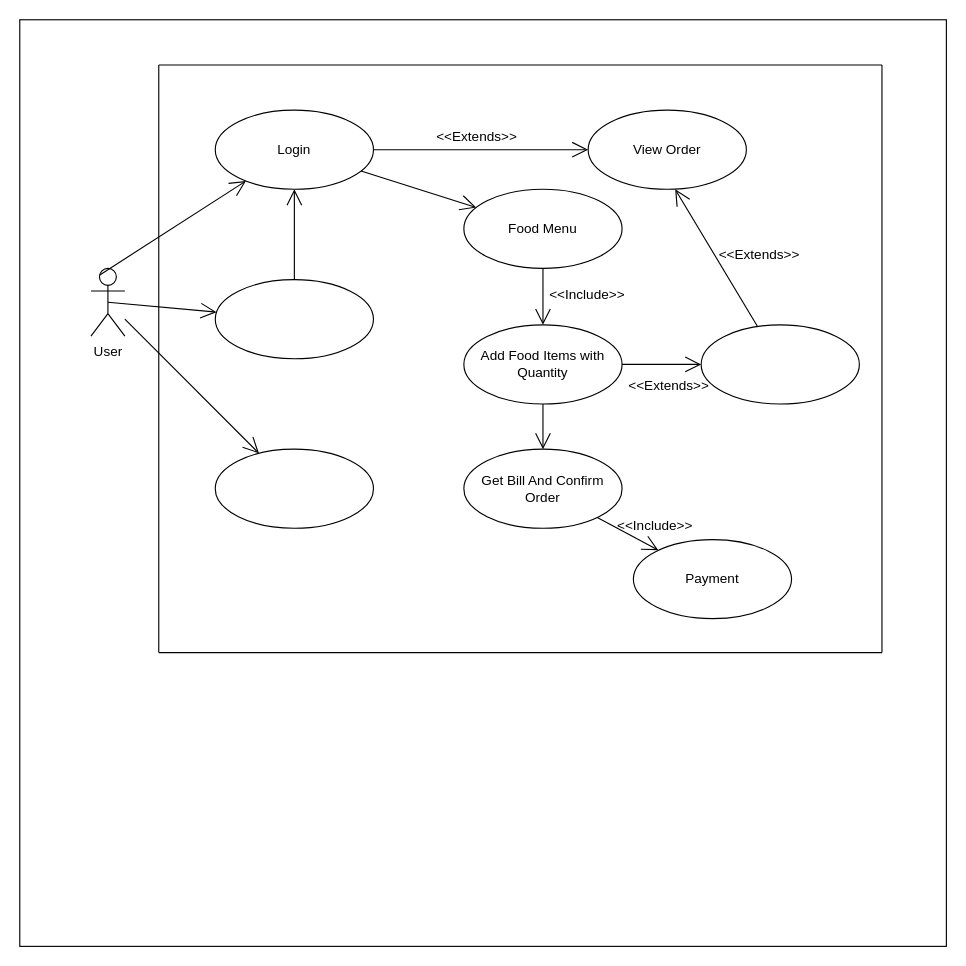
Image size: 966x966. Some labels were removed from this diagram. The shapes that lost their labels are listed below. From the top down, each one's centre as x and y in pixels, then its label:
the point at 293,319: New User
the point at 779,364: Edit Items
the point at 293,488: Exit
